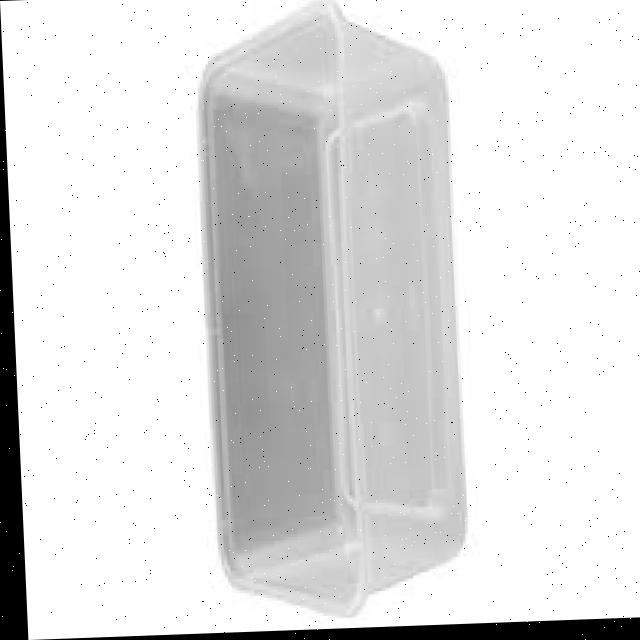disposable: (162, 0, 487, 626)
